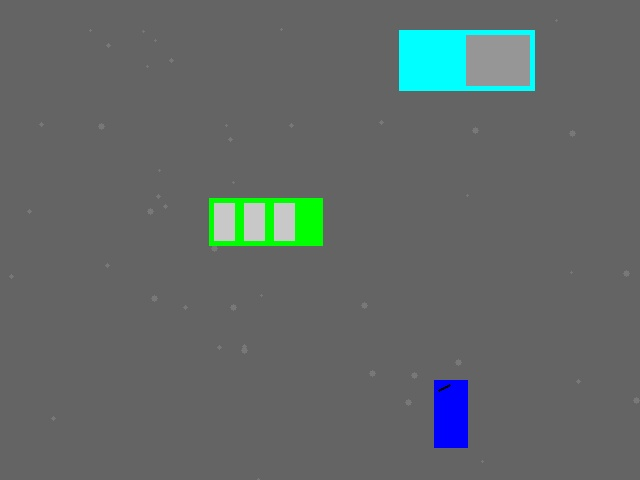bus: (209, 198, 322, 245)
motorcycle: (434, 380, 467, 447)
truck: (399, 30, 534, 90)
